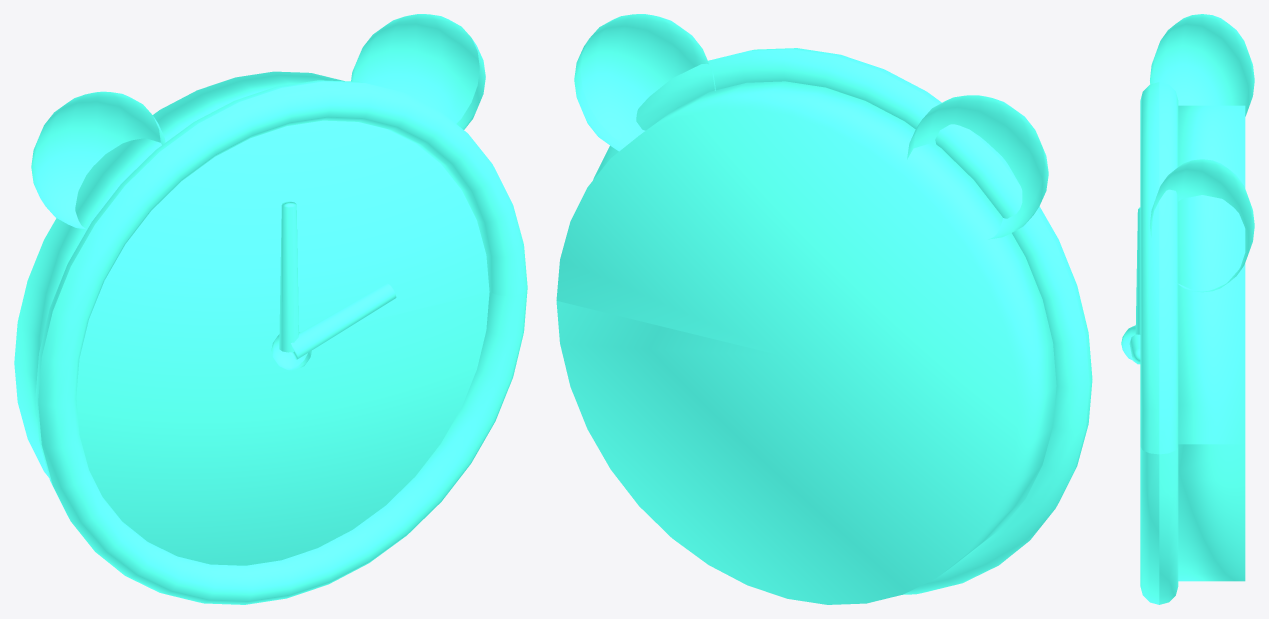
File: clock.glb
3 renders of one model, left to right at view 1: azimuth 30°, elevation 25°; view 2: azimuth 150°, elevation 25°; view 3: azimuth 270°, elevation 25°, orthographic. The views are drawn at different scales.
Visible parts, largest first — view 1: Clock48H; view 2: Clock48H; view 3: Clock48H.
Boxes of the visible parts, bbox=[...] form: Clock48H: bbox=[14, 14, 527, 604]; Clock48H: bbox=[556, 14, 1092, 604]; Clock48H: bbox=[1121, 14, 1254, 604].
Bounding box in the file's own units: 2.2 × 2.26 × 0.56.
